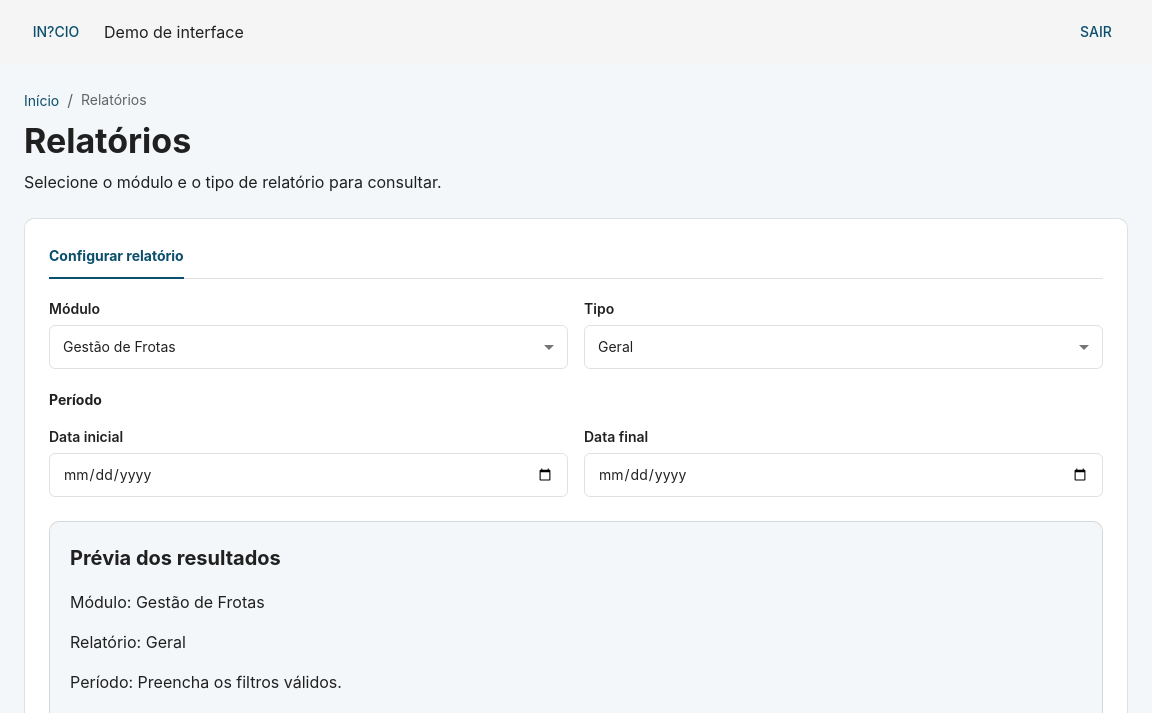
Scenario: Relatórios › preserva a navegação para a página inicial
Click the link "Início": (42, 100) x1=24 y1=92 x2=59 y2=109
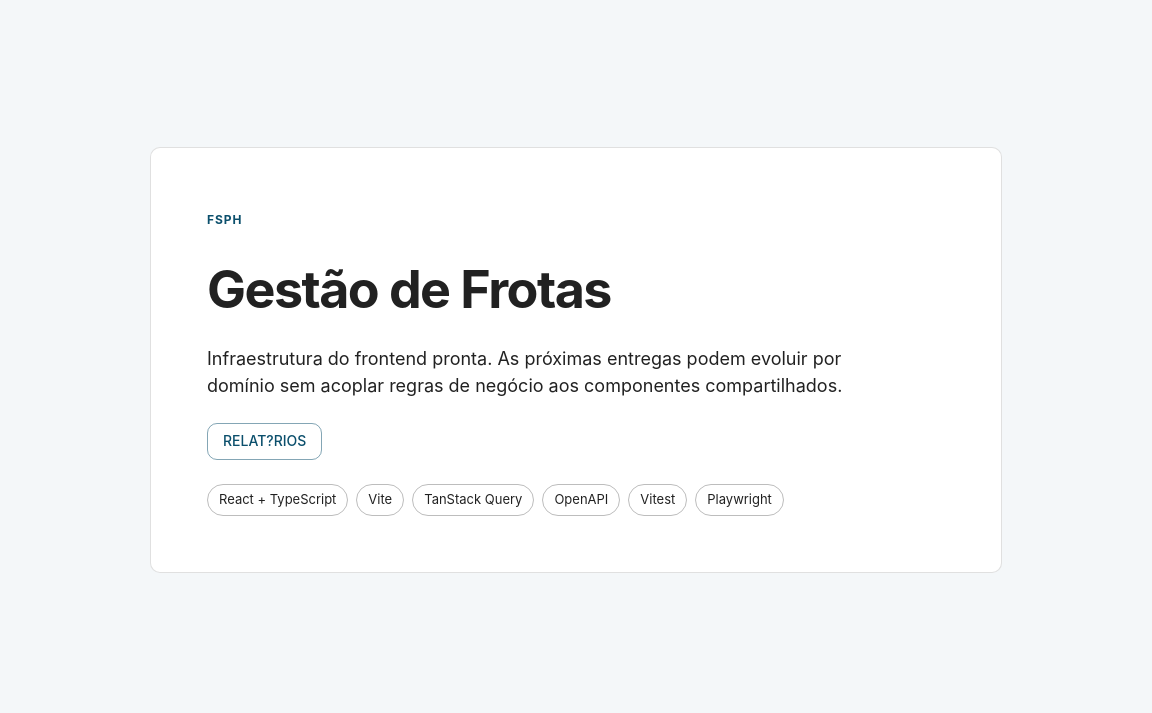
Result: the heading "Gestão de Frotas" is shown at x1=207 y1=258 x2=611 y2=321
